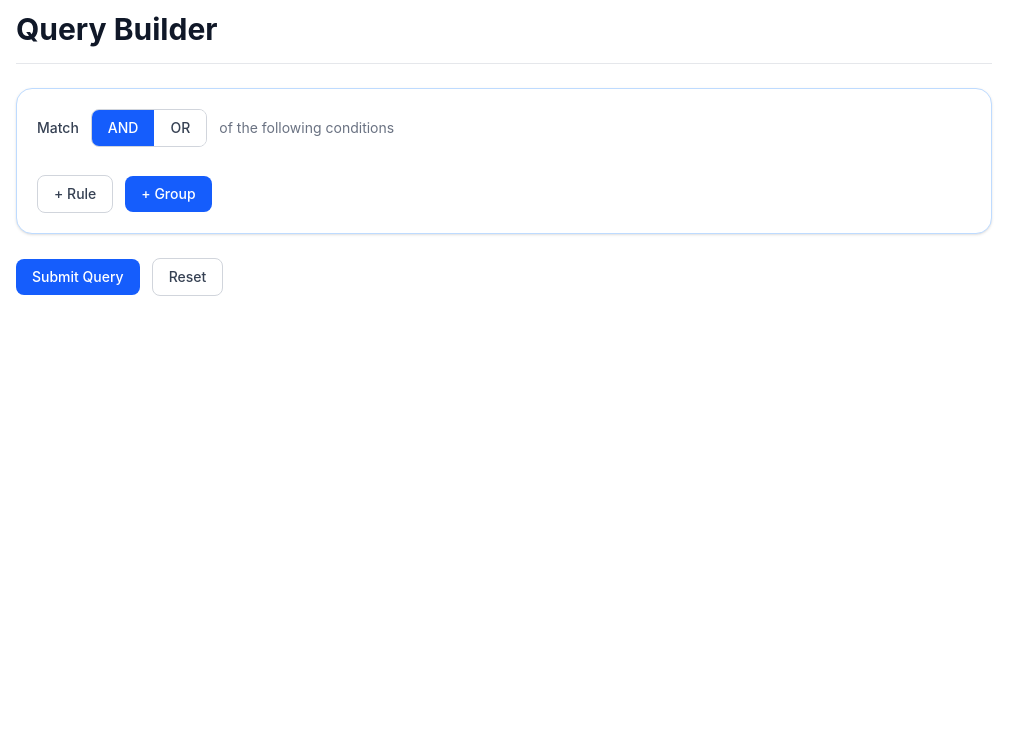
Scenario: QueryBuilder › resets the form and clears JSON display
Add a rule and submit
Click the button with test id "add-rule-depth-0" at [75, 194], box [37, 175, 113, 213]
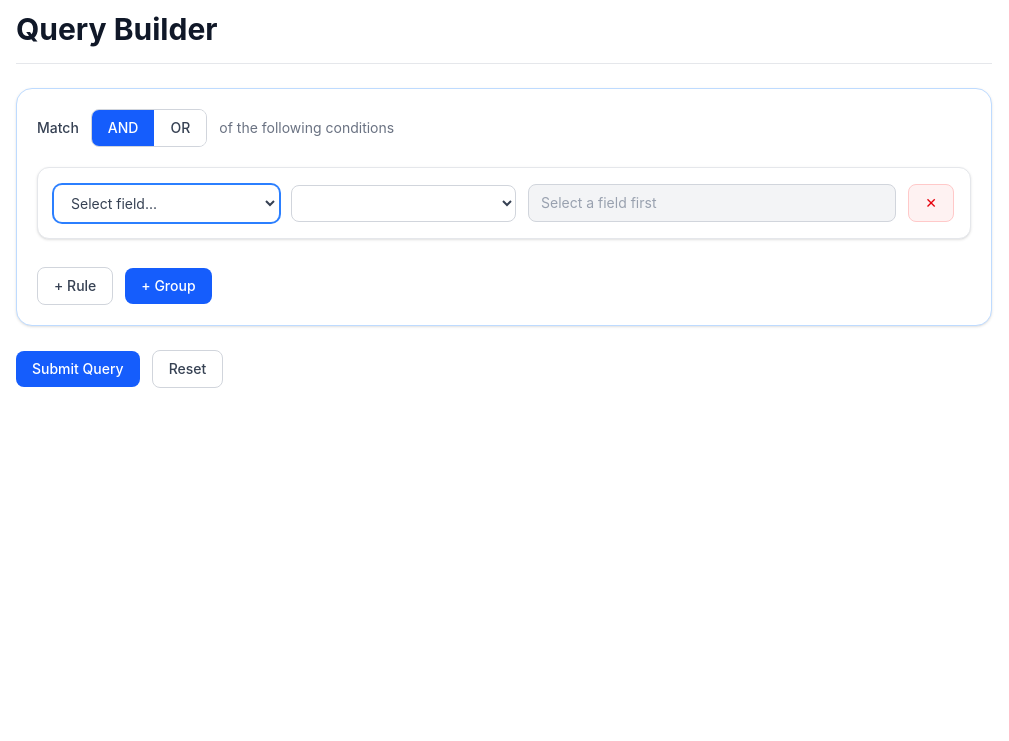
Select "name" in the dropdown with test id "field-select-depth-0-index-0" at [166, 203], box [54, 184, 279, 222]
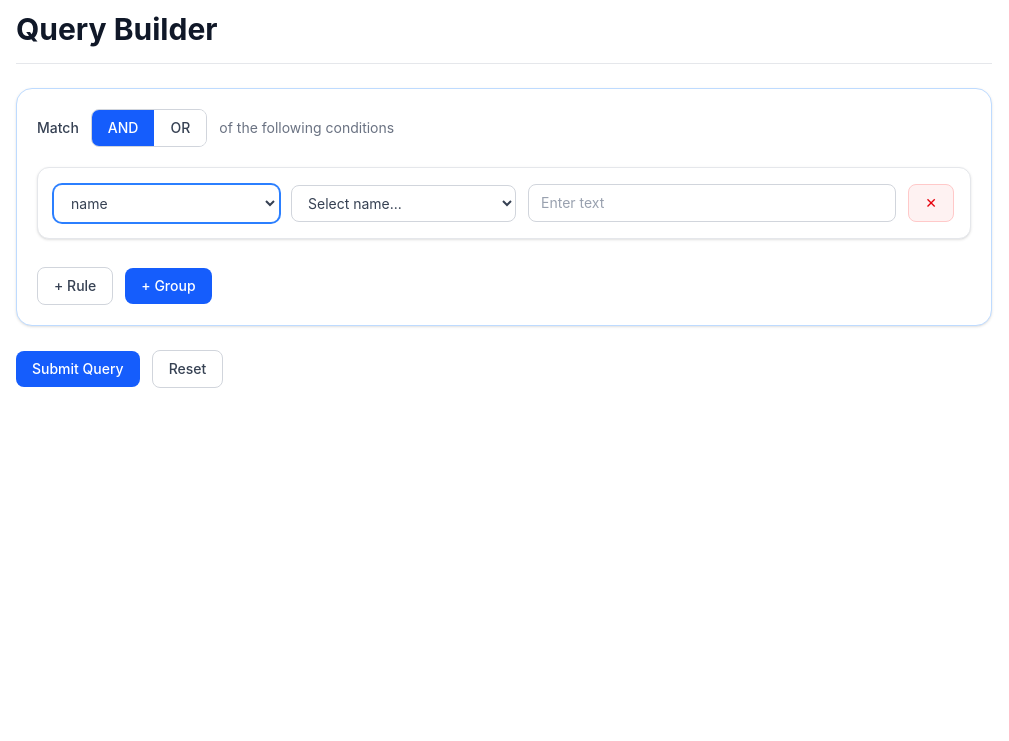
Select "EQUAL" in the dropdown with test id "operation-select-depth-0-index-0" at [404, 203], box [291, 184, 516, 222]
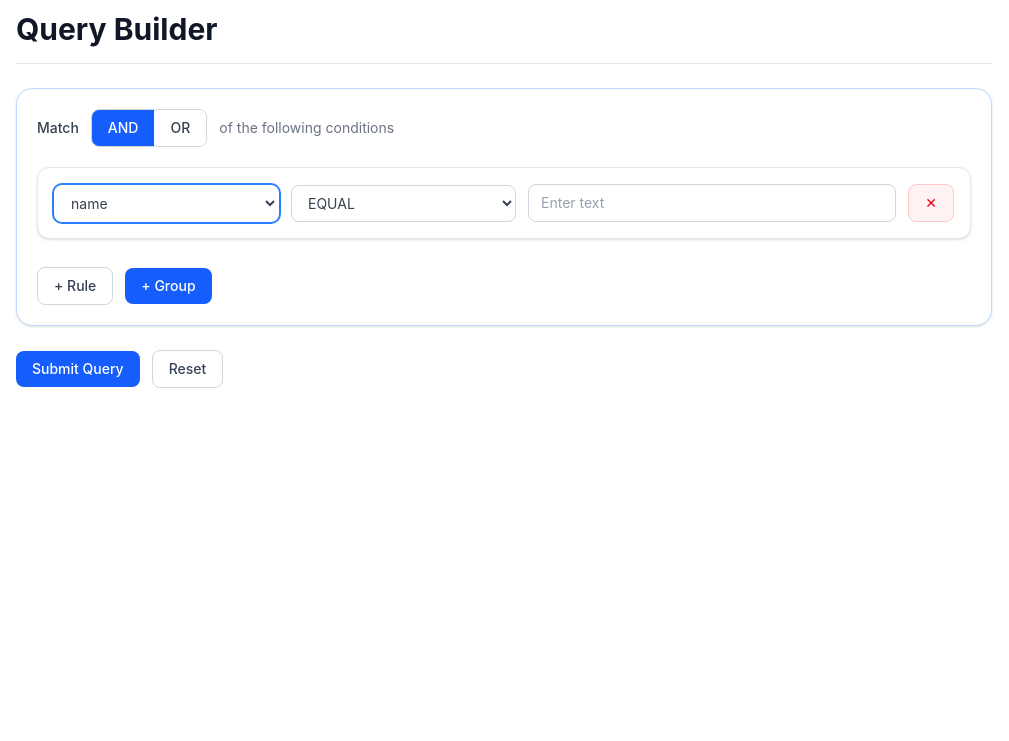
Type "john" into the field with test id "value-input-depth-0-index-0" at [712, 203], box [528, 184, 896, 222]
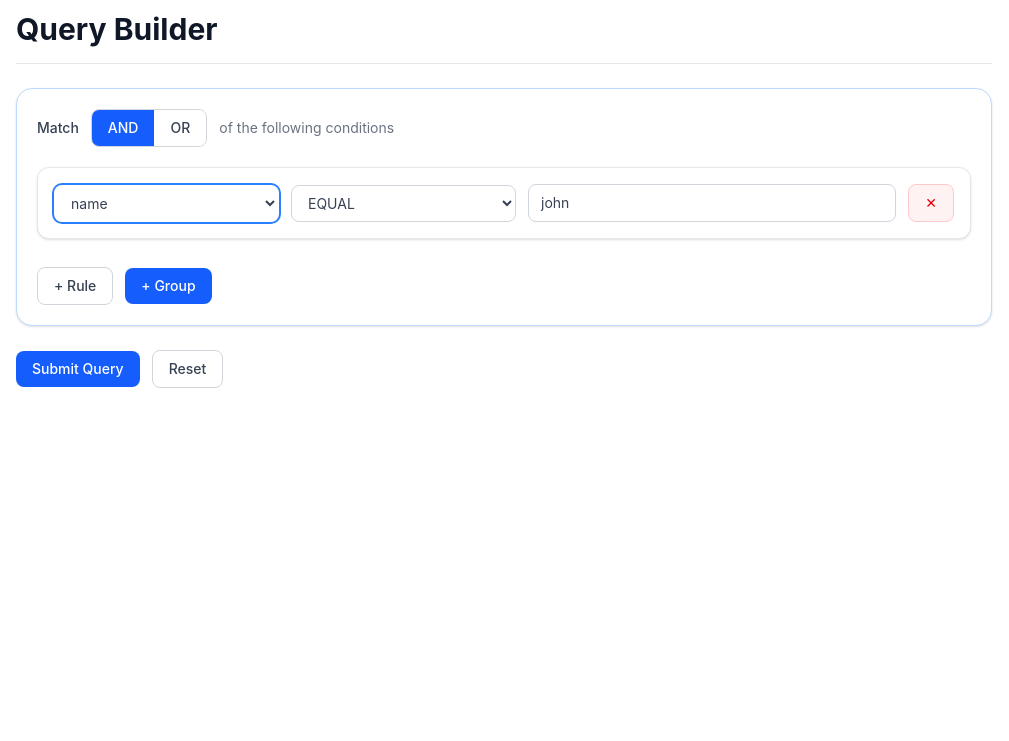
Click the button with test id "submit-button" at [78, 369], box [16, 351, 140, 387]
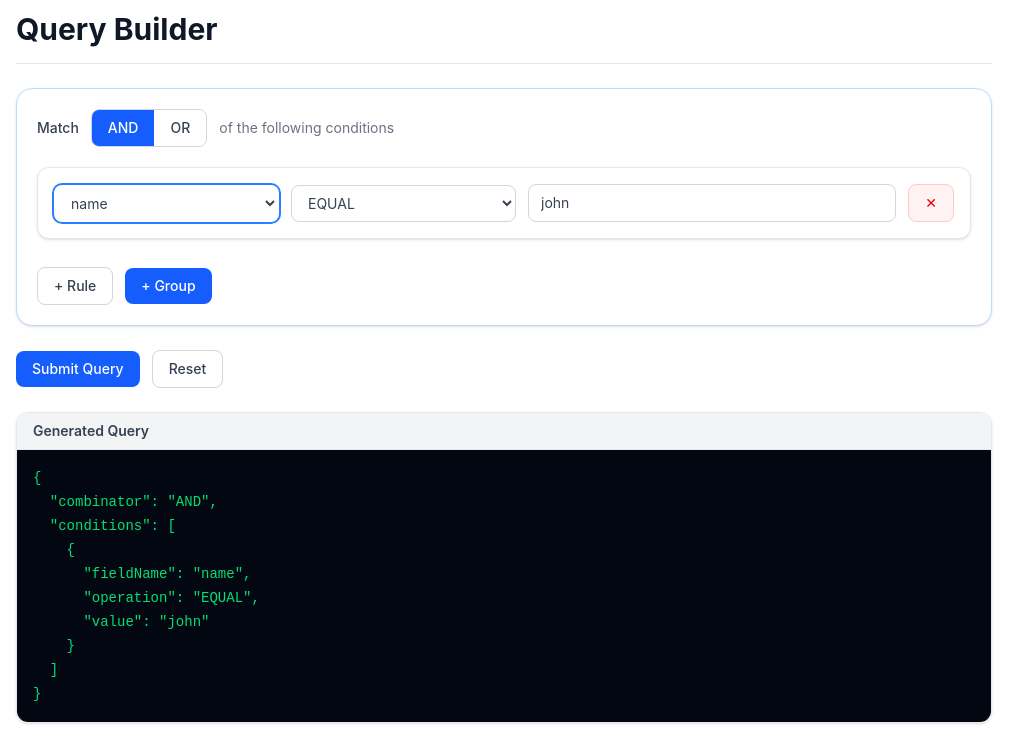
Result: the element with test id "payload-display" is shown at [16, 412, 992, 723]
Click the button with test id "reset-button" at [188, 369], box [152, 350, 223, 388]
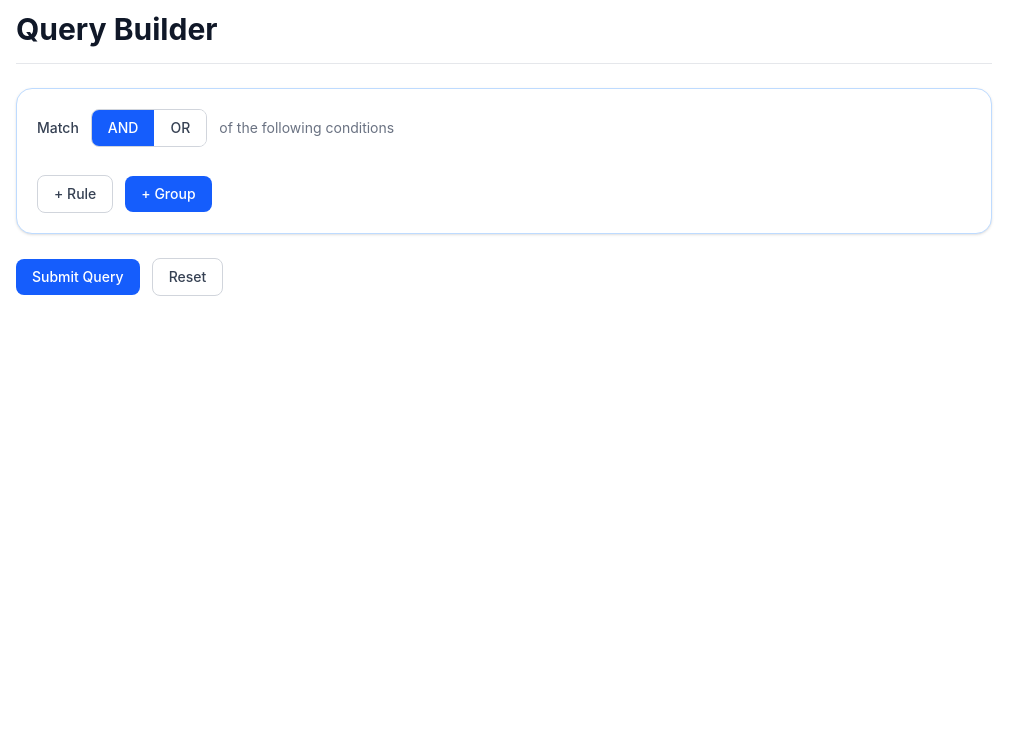
Result: the element with test id "payload-display" is gone
